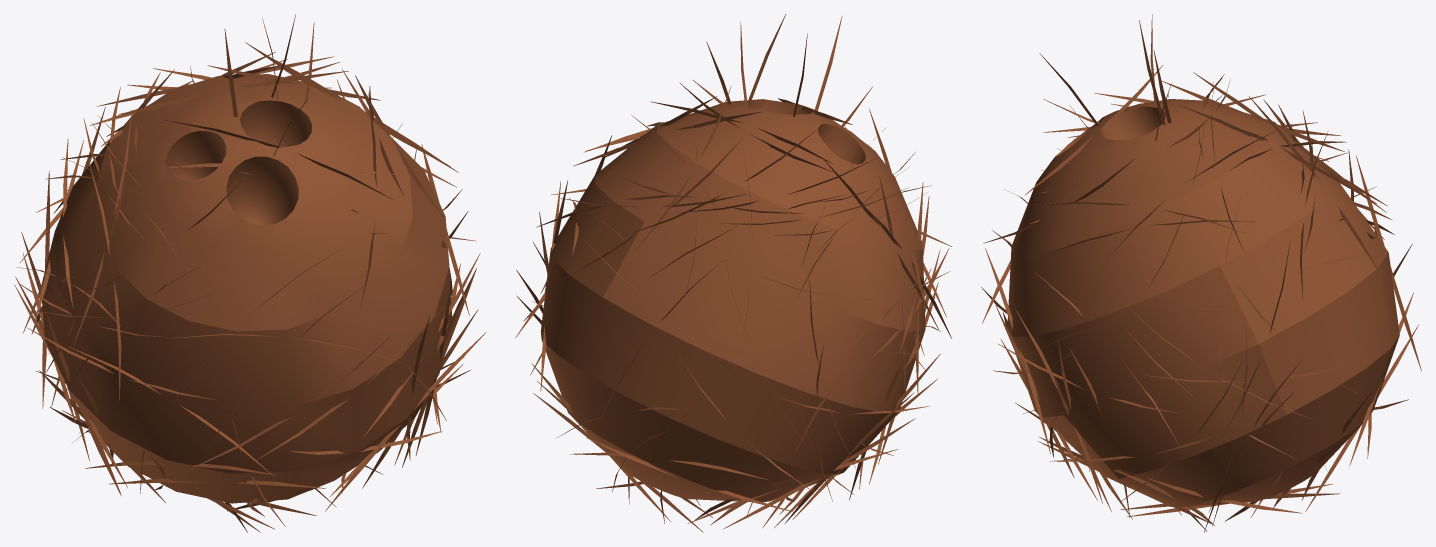
File: coconut.fbx
3 views of the same model, side by side, from view 1: azimuth 30°, elevation 25°; view 2: azimuth 150°, elevation 25°; view 3: azimuth 270°, elevation 25° (orthographic). The views are drawn at different scales.
Parts seen in each view (by area): view 1: Sphere, Sphere|kılxık|Dupli|45, Sphere|kılxık|Dupli|42, Sphere|kılxık|Dupli|72, Sphere|kılxık|Dupli|90, Sphere|kılxık|Dupli|39, Sphere|kılxık|Dupli|104, Sphere|kılxık|Dupli|36, Sphere|kılxık|Dupli|38, Sphere|kılxık|Dupli|11, Sphere|kılxık|Dupli|6, Sphere|kılxık|Dupli|3; view 2: Sphere, Sphere|kılxık|Dupli|75, Sphere|kılxık|Dupli|15, Sphere|kılxık|Dupli|74, Sphere|kılxık|Dupli|21; view 3: Sphere, Sphere|kılxık|Dupli|105, Sphere|kılxık|Dupli|96, Sphere|kılxık|Dupli|33, Sphere|kılxık|Dupli|24, Sphere|kılxık|Dupli|95, Sphere|kılxık|Dupli|54, Sphere|kılxık|Dupli|38, Sphere|kılxık|Dupli|56.
Boxes of the visible parts, x1,y1,x2,y2 form: Sphere: [41, 74, 452, 503]; Sphere|kılxık|Dupli|45: [325, 332, 486, 511]; Sphere|kılxık|Dupli|42: [45, 309, 121, 495]; Sphere|kılxık|Dupli|72: [88, 160, 121, 400]; Sphere|kılxık|Dupli|90: [402, 268, 476, 467]; Sphere|kılxık|Dupli|39: [256, 306, 444, 460]; Sphere|kılxık|Dupli|104: [42, 170, 50, 408]; Sphere|kılxık|Dupli|36: [112, 71, 348, 117]; Sphere|kılxık|Dupli|38: [164, 120, 394, 200]; Sphere|kılxık|Dupli|11: [73, 110, 132, 346]; Sphere|kılxık|Dupli|6: [118, 62, 339, 114]; Sphere|kılxık|Dupli|3: [68, 346, 274, 476]; Sphere: [540, 99, 925, 502]; Sphere|kılxık|Dupli|75: [722, 418, 915, 529]; Sphere|kılxık|Dupli|15: [586, 437, 793, 512]; Sphere|kılxık|Dupli|74: [573, 111, 762, 166]; Sphere|kılxık|Dupli|21: [533, 393, 703, 532]; Sphere: [1007, 99, 1399, 506]; Sphere|kılxık|Dupli|105: [1356, 155, 1421, 371]; Sphere|kılxık|Dupli|96: [985, 248, 1050, 454]; Sphere|kılxık|Dupli|33: [1193, 72, 1364, 196]; Sphere|kılxık|Dupli|24: [1305, 324, 1418, 511]; Sphere|kılxık|Dupli|95: [995, 305, 1097, 500]; Sphere|kılxık|Dupli|54: [1178, 104, 1376, 203]; Sphere|kılxık|Dupli|38: [1025, 65, 1162, 194]; Sphere|kılxık|Dupli|56: [1249, 96, 1378, 271].
Size of the model in its own units: 65.16 by 80.11 by 65.77.
